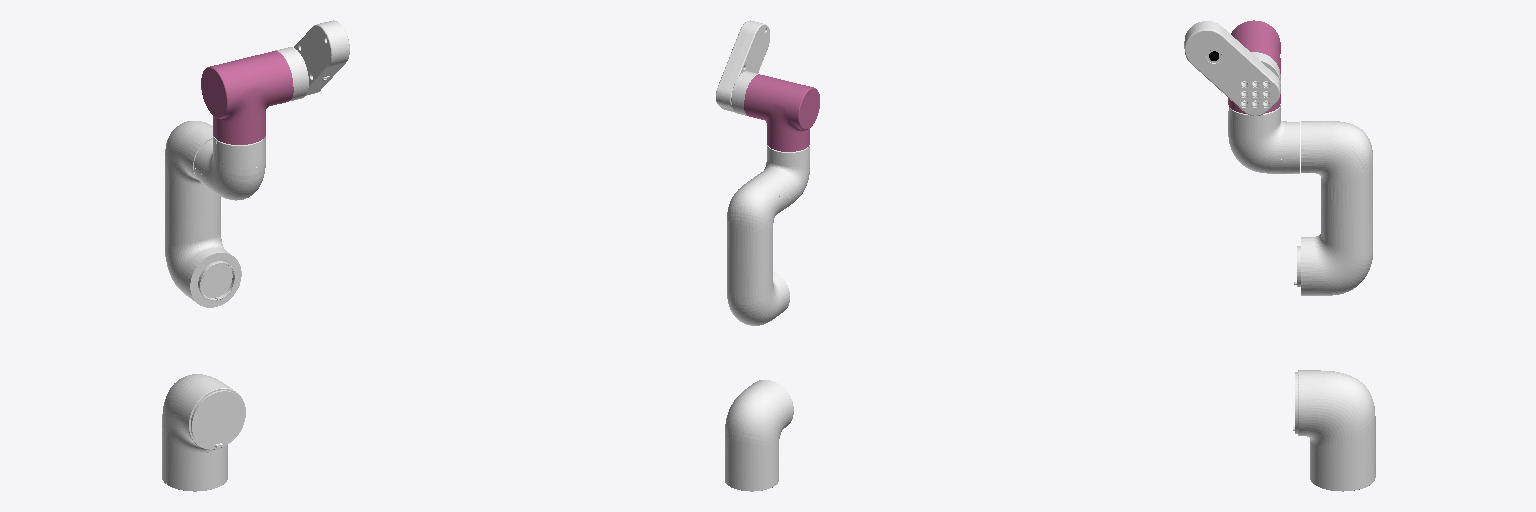
robot.urdf — mycobot_280_jn:
<?xml version="1.0"?>
<robot name="mycobot_280_jn">
  <link name="world"/>
  <joint name="world_to_joint1" type="fixed"><parent link="world"/><child link="joint1"/><origin xyz="0 0 0" rpy="0 0 0"/></joint>

  <link name="joint1">
    <visual>
      <geometry><mesh filename="package://positronic_description/urdf/mycobot_280_jn_sim/meshes/visual/joint1.dae"/></geometry>
    </visual>
    <collision>
      <geometry><mesh filename="package://positronic_description/urdf/mycobot_280_jn_sim/meshes/collision/joint1.stl"/></geometry>
    </collision>
    <inertial>
      <origin xyz="-0.000007 -0.000080 0.049738" rpy="0 0 0"/>
      <mass value="0.50875"/>
      <inertia ixx="1.2317e-03" ixy="6.9182e-09" ixz="-6.2406e-08" iyy="9.2410e-04" iyz="1.1339e-06" izz="1.1863e-03"/>
    </inertial>
  </link>
  <link name="joint2">
    <visual>
      <geometry><mesh filename="package://positronic_description/urdf/mycobot_280_jn_sim/meshes/visual/joint2.dae"/></geometry>
    </visual>
    <collision>
      <geometry><mesh filename="package://positronic_description/urdf/mycobot_280_jn_sim/meshes/collision/joint2.stl"/></geometry>
    </collision>
    <inertial>
      <origin xyz="-0.000000 -0.006642 -0.021543" rpy="0 0 0"/>
      <mass value="0.06376"/>
      <inertia ixx="4.6518e-05" ixy="-1.4217e-10" ixz="4.0220e-11" iyy="4.1988e-05" iyz="5.2079e-06" izz="2.3962e-05"/>
    </inertial>
  </link>
  <link name="joint3">
    <visual>
      <geometry><mesh filename="package://positronic_description/urdf/mycobot_280_jn_sim/meshes/visual/joint3.dae"/></geometry>
    </visual>
    <collision>
      <geometry><mesh filename="package://positronic_description/urdf/mycobot_280_jn_sim/meshes/collision/joint3.stl"/></geometry>
    </collision>
    <inertial>
      <origin xyz="-0.054329 -0.000001 0.055329" rpy="0 0 0"/>
      <mass value="0.11283"/>
      <inertia ixx="4.0982e-05" ixy="-4.4556e-09" ixz="-7.0957e-07" iyy="2.1152e-04" iyz="-8.7142e-10" izz="2.0504e-04"/>
    </inertial>
  </link>
  <link name="joint4">
    <visual>
      <geometry><mesh filename="package://positronic_description/urdf/mycobot_280_jn_sim/meshes/visual/joint4.dae"/></geometry>
    </visual>
    <collision>
      <geometry><mesh filename="package://positronic_description/urdf/mycobot_280_jn_sim/meshes/collision/joint4.stl"/></geometry>
    </collision>
    <inertial>
      <origin xyz="-0.045854 0.000000 0.007555" rpy="0 0 0"/>
      <mass value="0.08998"/>
      <inertia ixx="3.0322e-05" ixy="2.4186e-09" ixz="-2.9578e-06" iyy="1.3482e-04" iyz="1.3086e-09" izz="1.2647e-04"/>
    </inertial>
  </link>
  <link name="joint5">
    <visual>
      <geometry><mesh filename="package://positronic_description/urdf/mycobot_280_jn_sim/meshes/visual/joint5.dae"/></geometry>
    </visual>
    <collision>
      <geometry><mesh filename="package://positronic_description/urdf/mycobot_280_jn_sim/meshes/collision/joint5.stl"/></geometry>
    </collision>
    <inertial>
      <origin xyz="0.000001 -0.009519 -0.008481" rpy="0 0 0"/>
      <mass value="0.02887"/>
      <inertia ixx="1.1107e-05" ixy="2.2157e-10" ixz="1.0327e-10" iyy="8.0087e-06" iyz="1.5831e-06" izz="8.7282e-06"/>
    </inertial>
  </link>
  <link name="joint6">
    <visual>
      <geometry><mesh filename="package://positronic_description/urdf/mycobot_280_jn_sim/meshes/visual/joint6.dae"/></geometry>
    </visual>
    <collision>
      <geometry><mesh filename="package://positronic_description/urdf/mycobot_280_jn_sim/meshes/collision/joint6.stl"/></geometry>
    </collision>
    <inertial>
      <origin xyz="-0.000000 0.005619 -0.009142" rpy="0 0 0"/>
      <mass value="0.03611"/>
      <inertia ixx="1.6575e-05" ixy="1.3007e-11" ixz="9.1115e-11" iyy="1.1852e-05" iyz="-8.2298e-07" izz="1.2374e-05"/>
    </inertial>
  </link>
  <link name="joint6_flange">
    <visual>
      <geometry><mesh filename="package://positronic_description/urdf/mycobot_280_jn_sim/meshes/visual/joint6_flange.dae"/></geometry>
    </visual>
    <collision>
      <geometry><mesh filename="package://positronic_description/urdf/mycobot_280_jn_sim/meshes/collision/joint6_flange.stl"/></geometry>
    </collision>
    <inertial>
      <origin xyz="-0.000000 -0.000000 -0.005150" rpy="0 0 0"/>
      <mass value="0.00556"/>
      <inertia ixx="5.9851e-07" ixy="-5.1008e-24" ixz="1.4442e-24" iyy="5.9851e-07" iyz="-7.4388e-16" izz="1.0234e-06"/>
    </inertial>
  </link>
  <joint name="joint2_to_joint1" type="revolute">
    <parent link="joint1"/><child link="joint2"/>
    <origin xyz="0 0 0.15756" rpy="0 0 0"/>
    <axis xyz="0 0 1"/>
    <limit effort="10.0" lower="-2.9321" upper="2.9321" velocity="2.618"/>
    <dynamics damping="0.1" friction="0.01"/>
  </joint>
  <joint name="joint3_to_joint2" type="revolute">
    <parent link="joint2"/><child link="joint3"/>
    <origin xyz="0 0 -0.001" rpy="0 1.5708 -1.5708"/>
    <axis xyz="0 0 1"/>
    <limit effort="10.0" lower="-2.4434" upper="2.4434" velocity="2.618"/>
    <dynamics damping="0.1" friction="0.01"/>
  </joint>
  <joint name="joint4_to_joint3" type="revolute">
    <parent link="joint3"/><child link="joint4"/>
    <origin xyz="-0.1104 0 0" rpy="0 0 0"/>
    <axis xyz="0 0 1"/>
    <limit effort="10.0" lower="-2.6179" upper="2.6179" velocity="2.618"/>
    <dynamics damping="0.1" friction="0.01"/>
  </joint>
  <joint name="joint5_to_joint4" type="revolute">
    <parent link="joint4"/><child link="joint5"/>
    <origin xyz="-0.096 0 0.06462" rpy="0 0 -1.5708"/>
    <axis xyz="0 0 1"/>
    <limit effort="10.0" lower="-2.6179" upper="2.6179" velocity="2.618"/>
    <dynamics damping="0.1" friction="0.01"/>
  </joint>
  <joint name="joint6_to_joint5" type="revolute">
    <parent link="joint5"/><child link="joint6"/>
    <origin xyz="0 -0.07318 0" rpy="1.5708 -1.5708 0"/>
    <axis xyz="0 0 1"/>
    <limit effort="10.0" lower="-2.7052" upper="2.7925" velocity="2.618"/>
    <dynamics damping="0.1" friction="0.01"/>
  </joint>
  <joint name="joint6output_to_joint6" type="revolute">
    <parent link="joint6"/><child link="joint6_flange"/>
    <origin xyz="0 0.0456 0" rpy="-1.5708 0.7854 0"/>
    <axis xyz="0 0 1"/>
    <limit effort="10.0" lower="-3.14159" upper="3.14159" velocity="2.618"/>
    <dynamics damping="0.1" friction="0.01"/>
  </joint>
  <joint name="joint6output_to_camera_flange" type="fixed">
    <parent link="joint6_flange"/><child link="camera_flange"/>
    <!-- Camera mount (#97): the camera module 90 deg from the line the fingers open along, so
         it looks into the gap between them and the gripper does not cover the view. As on the
         real arm (docs/03_verification/camera_mount). The same in the four camera variants,
         test_camera_mount.py checks it. -->
    <origin xyz="0 0 0.01" rpy="1.5708 0 -1.5708"/>
  </joint>
  <link name="camera_flange">
    <visual>
      <geometry><mesh filename="package://positronic_description/urdf/mycobot_280_jn_sim/meshes/visual/camera_flange.dae"/></geometry>
    </visual>
    <collision>
      <geometry><mesh filename="package://positronic_description/urdf/mycobot_280_jn_sim/meshes/collision/camera_flange.stl"/></geometry>
    </collision>
    <inertial>
      <origin xyz="0.023130 0.000000 -0.000136" rpy="0 0 0"/>
      <mass value="0.03000"/>
      <inertia ixx="3.1836e-06" ixy="2.6569e-11" ixz="-3.1215e-09" iyy="1.7767e-05" iyz="4.1651e-11" izz="1.5849e-05"/>
    </inertial>
  </link>

  <link name="camera_link"/>
  <joint name="camera_flange_to_camera_link" type="fixed">
    <parent link="camera_flange"/><child link="camera_link"/>
    <!-- The roll about the optical axis puts the gripper at the bottom of the image. The raw
         image of the real camera matches it once turned 90 deg counterclockwise (#97). -->
    <origin xyz="0.0415 0.0083 0.0000" rpy="1.5708 0 1.5708"/>
  </joint>
  <gazebo reference="camera_link">
    <sensor name="wrist_camera" type="camera">
      <always_on>1</always_on><update_rate>30</update_rate><visualize>true</visualize>
      <topic>wrist_camera/image_raw</topic>
      <camera>
        <horizontal_fov>1.047</horizontal_fov>
        <image><width>640</width><height>480</height><format>R8G8B8</format></image>
        <clip><near>0.02</near><far>5.0</far></clip>
      </camera>
    </sensor>
  </gazebo>

  <gazebo reference="joint2"><turnGravityOff>true</turnGravityOff></gazebo>
  <gazebo reference="joint3"><turnGravityOff>true</turnGravityOff></gazebo>
  <gazebo reference="joint4"><turnGravityOff>true</turnGravityOff></gazebo>
  <gazebo reference="joint5"><turnGravityOff>true</turnGravityOff></gazebo>
  <gazebo reference="joint6"><turnGravityOff>true</turnGravityOff></gazebo>
  <gazebo reference="joint6_flange"><turnGravityOff>true</turnGravityOff></gazebo>
  <gazebo reference="camera_flange"><turnGravityOff>true</turnGravityOff></gazebo>
</robot>

--- Render facts (derived) ---
Views: 3 orthographic renders of the robot side by side, from view 1: azimuth 30°, elevation 25°; view 2: azimuth 150°, elevation 25°; view 3: azimuth 270°, elevation 25°.
Robot: mycobot_280_jn — 10 links, 9 joints (6 revolute, 3 fixed); root link world; default pose: every joint at zero.
Visible links, largest first — view 1: joint4, joint2, joint6, joint5, camera_flange, joint6_flange; view 2: joint4, joint2, joint6, camera_flange, joint5, joint6_flange; view 3: joint4, joint2, camera_flange, joint5, joint6.
Boxes of the visible links, x1,y1,x2,y2 form: joint4: (165,121,241,307); joint2: (162,374,245,491); joint6: (201,51,293,144); joint5: (194,136,265,200); camera_flange: (294,20,349,95); joint6_flange: (275,47,308,100); joint4: (727,173,789,325); joint2: (725,380,793,491); joint6: (744,74,819,151); camera_flange: (716,20,769,111); joint5: (760,145,809,210); joint6_flange: (731,71,760,115); joint4: (1294,121,1372,295); joint2: (1293,370,1375,491); camera_flange: (1184,21,1280,115); joint5: (1228,105,1299,173); joint6: (1228,20,1280,113).
Bounding box of the posed robot: 0.0876 × 0.1397 × 0.3938 m (x, y, z).
6 mesh visuals loaded from 8 distinct referenced files (6 Collada DAE); not drawn: 2 (reference not matched to a file when rendering).
